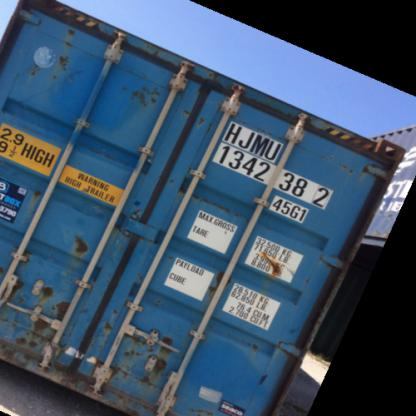Damage: (98, 320, 180, 396), (11, 273, 70, 357), (24, 43, 80, 81), (320, 146, 374, 176), (119, 79, 164, 109), (257, 238, 289, 279), (208, 262, 237, 293), (68, 227, 94, 261), (26, 177, 48, 211), (183, 98, 211, 124), (60, 22, 84, 37)
